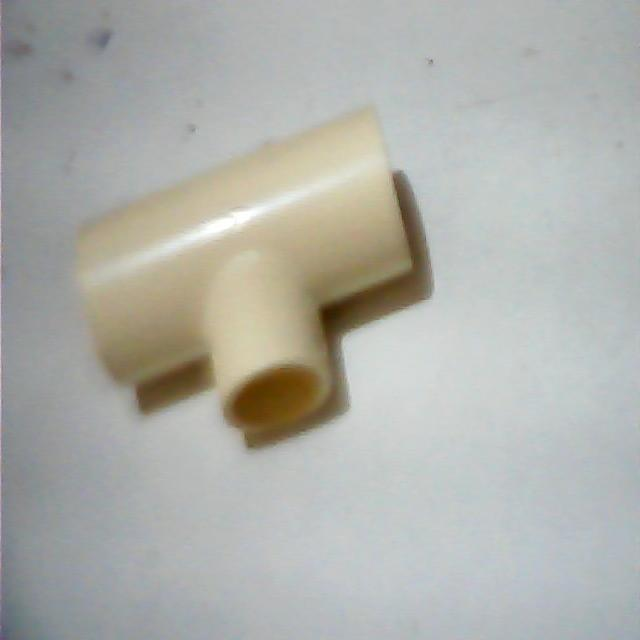T Joint: (76, 106, 415, 427)
